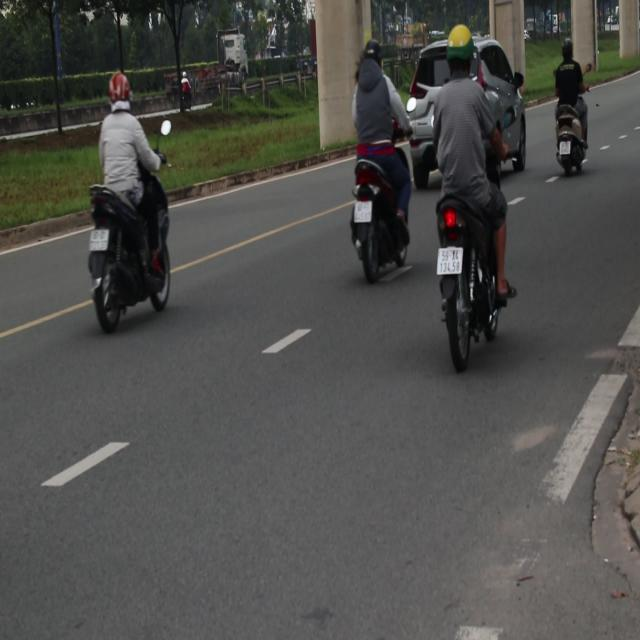car: (404, 34, 527, 184)
motorbike: (87, 187, 171, 336), (435, 195, 503, 372), (348, 160, 414, 285), (556, 105, 590, 176), (175, 66, 199, 116)
truck: (206, 27, 256, 101)
